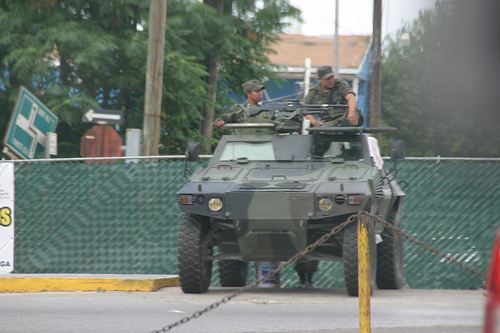rifle: (250, 103, 346, 123)
